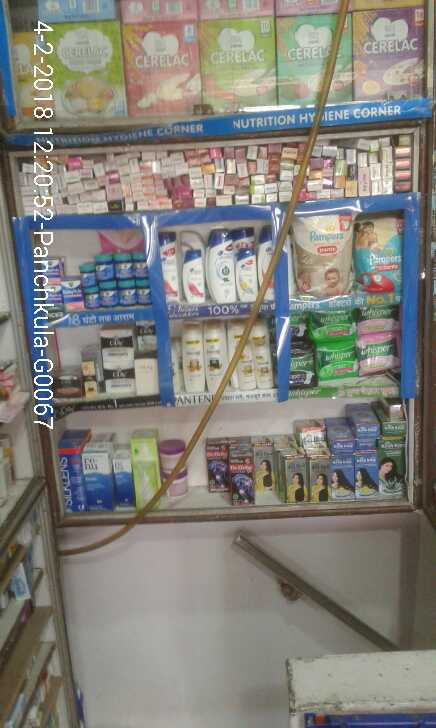beauty: (207, 227, 235, 304), (201, 323, 229, 394), (179, 323, 204, 397), (251, 323, 274, 391), (181, 247, 206, 303), (162, 231, 178, 306), (101, 361, 135, 395), (99, 327, 131, 361), (236, 249, 258, 298), (134, 320, 161, 355)
pharmacy: (286, 217, 350, 297), (352, 214, 401, 292), (357, 336, 401, 375), (316, 345, 358, 382), (310, 309, 355, 339), (289, 351, 316, 390), (356, 307, 399, 331), (92, 252, 116, 281), (62, 282, 83, 314), (43, 255, 63, 286), (119, 281, 139, 307), (116, 254, 133, 278), (134, 251, 149, 278), (101, 284, 119, 306), (137, 281, 150, 306)
